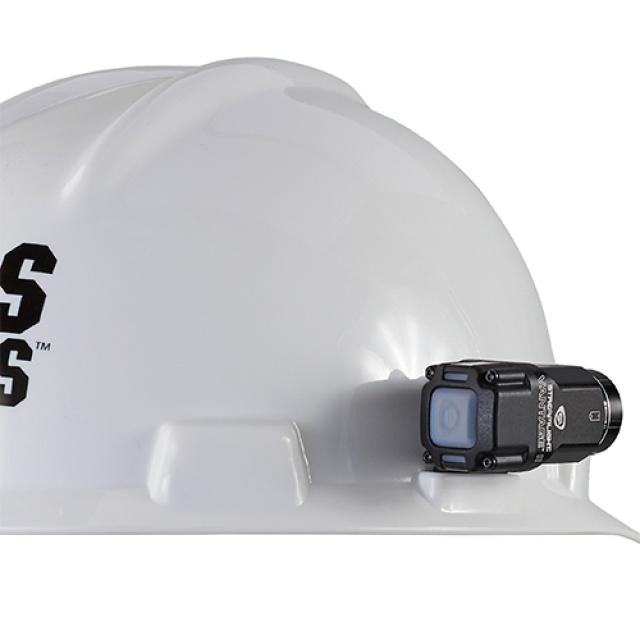helmet: (1, 72, 637, 640)
